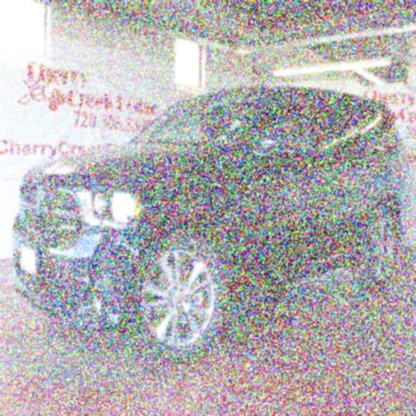Vehicle: (11, 86, 411, 366)
